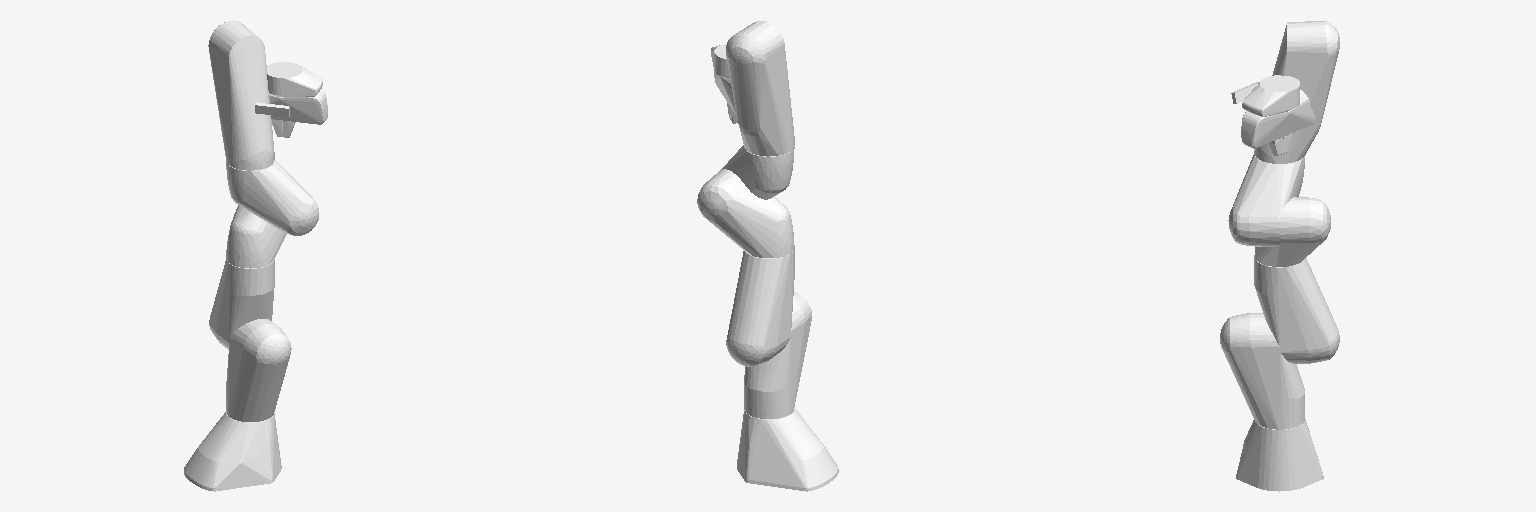
The robot description file, URDF, robot "panda":
<?xml version="1.0" ?>
<!-- =================================================================================== -->
<!-- |    This document was autogenerated by xacro from panda_arm_hand.urdf.xacro      | -->
<!-- |    EDITING THIS FILE BY HAND IS NOT RECOMMENDED                                 | -->
<!-- =================================================================================== -->
<robot name="panda" xmlns:xacro="http://www.ros.org/wiki/xacro">
  <link name="panda_link0">
  	<inertial>
      <origin rpy="0 0 0" xyz="0 0 0.05"/>
       <mass value="2.9"/>
       <inertia ixx="0.1" ixy="0" ixz="0" iyy="0.1" iyz="0" izz="0.1"/>
    </inertial>
    <visual>
      <geometry>
        <mesh filename="package://meshes/collision/link0.obj"/>
      </geometry>
      <material name="panda_white">
    		<color rgba="1. 1. 1. 1."/>
  		</material>
    </visual>
    <collision>
      <geometry>
        <mesh filename="package://meshes/collision/link0.obj"/>
      </geometry>
      <material name="panda_white"/>
    </collision>
  </link>
  <link name="panda_link1">
  	<inertial>
      <origin rpy="0 0 0" xyz="0 -0.04 -0.05"/>
       <mass value="2.7"/>
       <inertia ixx="0.1" ixy="0" ixz="0" iyy="0.1" iyz="0" izz="0.1"/>
    </inertial>
    <visual>
      <geometry>
        <mesh filename="package://meshes/visual/link1.obj"/>
      </geometry>
      <material name="panda_white"/>
    </visual>
    <collision>
      <geometry>
        <mesh filename="package://meshes/collision/link1.obj"/>
      </geometry>
      <material name="panda_white"/>
    </collision>
  </link>
  <joint name="panda_joint1" type="revolute">
    <safety_controller k_position="100.0" k_velocity="40.0" soft_lower_limit="-2.8973" soft_upper_limit="2.8973"/>
    <origin rpy="0 0 0" xyz="0 0 0.333"/>
    <parent link="panda_link0"/>
    <child link="panda_link1"/>
    <axis xyz="0 0 1"/>
    <limit effort="87" lower="-2.9671" upper="2.9671" velocity="2.1750"/>
  </joint>
  <link name="panda_link2">
  	<inertial>
      <origin rpy="0 0 0" xyz="0 -0.04 0.06"/>
       <mass value="2.73"/>
       <inertia ixx="0.1" ixy="0" ixz="0" iyy="0.1" iyz="0" izz="0.1"/>
    </inertial>
    <visual>
      <geometry>
        <mesh filename="package://meshes/visual/link2.obj"/>
      </geometry>
      <material name="panda_white"/>
    </visual>
    <collision>
      <geometry>
        <mesh filename="package://meshes/collision/link2.obj"/>
      </geometry>
      <material name="panda_white"/>
    </collision>
  </link>
  <joint name="panda_joint2" type="revolute">
    <safety_controller k_position="100.0" k_velocity="40.0" soft_lower_limit="-1.7628" soft_upper_limit="1.7628"/>
    <origin rpy="-1.57079632679 0 0" xyz="0 0 0"/>
    <parent link="panda_link1"/>
    <child link="panda_link2"/>
    <axis xyz="0 0 1"/>
    <limit effort="87" lower="-1.8326" upper="1.8326" velocity="2.1750"/>
  </joint>
  <link name="panda_link3">
	  <inertial>
      <origin rpy="0 0 0" xyz="0.01 0.01 -0.05"/>
       <mass value="2.04"/>
       <inertia ixx="0.1" ixy="0" ixz="0" iyy="0.1" iyz="0" izz="0.1"/>
    </inertial>
    <visual>
      <geometry>
        <mesh filename="package://meshes/visual/link3.obj"/>
      </geometry>
      <material name="panda_red">
    		<color rgba="1. 1. 1. 1."/>
  		</material>
    </visual>
    <collision>
      <geometry>
        <mesh filename="package://meshes/collision/link3.obj"/>
      </geometry>
    </collision>
  </link>
  <joint name="panda_joint3" type="revolute">
    <safety_controller k_position="100.0" k_velocity="40.0" soft_lower_limit="-2.8973" soft_upper_limit="2.8973"/>
    <origin rpy="1.57079632679 0 0" xyz="0 -0.316 0"/>
    <parent link="panda_link2"/>
    <child link="panda_link3"/>
    <axis xyz="0 0 1"/>
    <limit effort="87" lower="-2.9671" upper="2.9671" velocity="2.1750"/>
  </joint>
  <link name="panda_link4">
  	<inertial>
      <origin rpy="0 0 0" xyz="-0.03 0.03 0.02"/>
       <mass value="2.08"/>
       <inertia ixx="0.1" ixy="0" ixz="0" iyy="0.1" iyz="0" izz="0.1"/>
    </inertial>
    <visual>
      <geometry>
        <mesh filename="package://meshes/visual/link4.obj"/>
      </geometry>
      <material name="panda_white"/>
    </visual>
    <collision>
      <geometry>
        <mesh filename="package://meshes/collision/link4.obj"/>
      </geometry>
      <material name="panda_white"/>
    </collision>
  </link>
  <joint name="panda_joint4" type="revolute">
    <safety_controller k_position="100.0" k_velocity="40.0" soft_lower_limit="-3.0718" soft_upper_limit="-0.0698"/>
    <origin rpy="1.57079632679 0 0" xyz="0.0825 0 0"/>
    <parent link="panda_link3"/>
    <child link="panda_link4"/>
    <axis xyz="0 0 1"/>
    <limit effort="87" lower="-3.1416" upper="0.0" velocity="2.1750"/>
  </joint>
  <link name="panda_link5">
  	<inertial>
      <origin rpy="0 0 0" xyz="0 0.04 -0.12"/>
       <mass value="3"/>
       <inertia ixx="0.1" ixy="0" ixz="0" iyy="0.1" iyz="0" izz="0.1"/>
    </inertial>
    <visual>
      <geometry>
        <mesh filename="package://meshes/visual/link5.obj"/>
      </geometry>
      <material name="panda_white"/>
    </visual>
    <collision>
      <geometry>
        <mesh filename="package://meshes/collision/link5.obj"/>
      </geometry>
      <material name="panda_white"/>
    </collision>
  </link>
  <joint name="panda_joint5" type="revolute">
    <safety_controller k_position="100.0" k_velocity="40.0" soft_lower_limit="-2.8973" soft_upper_limit="2.8973"/>
    <origin rpy="-1.57079632679 0 0" xyz="-0.0825 0.384 0"/>
    <parent link="panda_link4"/>
    <child link="panda_link5"/>
    <axis xyz="0 0 1"/>
    <limit effort="12" lower="-2.9671" upper="2.9671" velocity="2.6100"/>
  </joint>
  <link name="panda_link6">
  	<inertial>
      <origin rpy="0 0 0" xyz="0.04 0 0"/>
       <mass value="1.3"/>
       <inertia ixx="0.1" ixy="0" ixz="0" iyy="0.1" iyz="0" izz="0.1"/>
    </inertial>
    <visual>
      <geometry>
        <mesh filename="package://meshes/visual/link6.obj"/>
      </geometry>
      <material name="panda_white"/>
    </visual>
    <collision>
      <geometry>
        <mesh filename="package://meshes/collision/link6.obj"/>
      </geometry>
      <material name="panda_white"/>
    </collision>
  </link>
  <joint name="panda_joint6" type="revolute">
    <safety_controller k_position="100.0" k_velocity="40.0" soft_lower_limit="-0.0175" soft_upper_limit="3.7525"/>
    <origin rpy="1.57079632679 0 0" xyz="0 0 0"/>
    <parent link="panda_link5"/>
    <child link="panda_link6"/>
    <axis xyz="0 0 1"/>
    <limit effort="12" lower="-0.0873" upper="3.8223" velocity="2.6100"/>
  </joint>
  <link name="panda_link7">
  	<inertial>
      <origin rpy="0 0 0" xyz="0 0 0.08"/>
       <mass value=".2"/>
       <inertia ixx="0.1" ixy="0" ixz="0" iyy="0.1" iyz="0" izz="0.1"/>
    </inertial>
    <visual>
      <geometry>
        <mesh filename="package://meshes/collision/link7.obj"/>
      </geometry>
      <material name="panda_white"/>
    </visual>
    <collision>
      <geometry>
        <mesh filename="package://meshes/collision/link7.obj"/>
      </geometry>
      <material name="panda_white"/>
    </collision>
  </link>
  <joint name="panda_joint7" type="revolute">
    <safety_controller k_position="100.0" k_velocity="40.0" soft_lower_limit="-2.8973" soft_upper_limit="2.8973"/>
    <origin rpy="1.57079632679 0 0" xyz="0.088 0 0"/>
    <parent link="panda_link6"/>
    <child link="panda_link7"/>
    <axis xyz="0 0 1"/>
    <limit effort="12" lower="-2.9671" upper="2.9671" velocity="2.6100"/>
  </joint>
  <link name="panda_link8">
  	 <inertial>
      <origin rpy="0 0 0" xyz="0 0 0"/>
       <mass value="0.0"/>
       <inertia ixx="0.1" ixy="0" ixz="0" iyy="0.1" iyz="0" izz="0.1"/>
    </inertial>
  </link>
  <joint name="panda_joint8" type="fixed">
    <origin rpy="0 0 0" xyz="0 0 0.107"/>
    <parent link="panda_link7"/>
    <child link="panda_link8"/>
    <axis xyz="0 0 0"/>
  </joint>
  <joint name="panda_hand_joint" type="fixed">
    <parent link="panda_link8"/>
    <child link="panda_hand"/>
    <origin rpy="0 0 -0.785398163397" xyz="0 0 0"/>
  </joint>
  <link name="panda_hand">
  	<inertial>
      <origin rpy="0 0 0" xyz="0 0 0.04"/>
       <mass value=".81"/>
       <inertia ixx="0.1" ixy="0" ixz="0" iyy="0.1" iyz="0" izz="0.1"/>
    </inertial>
    <visual>
      <geometry>
        <mesh filename="package://meshes/visual/hand.obj"/>
      </geometry>
      <material name="panda_white"/>
    </visual>
    <collision>
      <geometry>
        <mesh filename="package://meshes/collision/hand.obj"/>
      </geometry>
      <material name="panda_white"/>
    </collision>
  </link>
  <link name="panda_leftfinger">
       <contact>
      <friction_anchor/>
      <stiffness value="30000.0"/>
      <damping value="1000.0"/>
      <spinning_friction value="0.1"/>
      <lateral_friction value="1.0"/>
    </contact>
  	<inertial>
      <origin rpy="0 0 0" xyz="0 0.01 0.02"/>
       <mass value="0.1"/>
       <inertia ixx="0.1" ixy="0" ixz="0" iyy="0.1" iyz="0" izz="0.1"/>
    </inertial>
    <visual>
      <geometry>
        <mesh filename="package://meshes/visual/finger.obj"/>
      </geometry>
      <material name="panda_white"/>
    </visual>
    <collision>
      <geometry>
        <mesh filename="package://meshes/collision/finger.obj"/>
      </geometry>
      <material name="panda_white"/>
    </collision>
  </link>
  <link name="panda_rightfinger">
        <contact>
      <friction_anchor/>
      <stiffness value="30000.0"/>
      <damping value="1000.0"/>
      <spinning_friction value="0.1"/>
      <lateral_friction value="1.0"/>
    </contact>

  	<inertial>
      <origin rpy="0 0 0" xyz="0 -0.01 0.02"/>
       <mass value="0.1"/>
       <inertia ixx="0.1" ixy="0" ixz="0" iyy="0.1" iyz="0" izz="0.1"/>
    </inertial>
    <visual>
      <origin rpy="0 0 3.14159265359" xyz="0 0 0"/>
      <geometry>
        <mesh filename="package://meshes/visual/finger.obj"/>
      </geometry>
      <material name="panda_white"/>
    </visual>
    <collision>
      <origin rpy="0 0 3.14159265359" xyz="0 0 0"/>
      <geometry>
        <mesh filename="package://meshes/collision/finger.obj"/>
      </geometry>
      <material name="panda_white"/>
    </collision>
  </link>
  <joint name="panda_finger_joint1" type="prismatic">
    <parent link="panda_hand"/>
    <child link="panda_leftfinger"/>
    <origin rpy="0 0 0" xyz="0 0 0.0584"/>
    <axis xyz="0 1 0"/>
    <limit effort="20" lower="0.0" upper="0.04" velocity="0.2"/>
  </joint>
  <joint name="panda_finger_joint2" type="prismatic">
    <parent link="panda_hand"/>
    <child link="panda_rightfinger"/>
    <origin rpy="0 0 0" xyz="0 0 0.0584"/>
    <axis xyz="0 -1 0"/>
    <limit effort="20" lower="0.0" upper="0.04" velocity="0.2"/>
    <mimic joint="panda_finger_joint1"/>
  </joint>
   <link name="panda_grasptarget">
 <inertial>
      <origin rpy="0 0 0" xyz="0 0 0"/>
       <mass value="0.0"/>
       <inertia ixx="0.1" ixy="0" ixz="0" iyy="0.1" iyz="0" izz="0.1"/>
    </inertial>
   </link>
   <joint name="panda_grasptarget_hand" type="fixed">
    <parent link="panda_hand"/>
    <child link="panda_grasptarget"/>
    <origin rpy="0 0 0" xyz="0 0 0.105"/>
  </joint>

<!-- attach camera object to gripper-->

    <joint name="camera_joint" type='fixed'>
	  <parent link="panda_hand"/>
	  <child link="gripper_cam"/>
	  <origin xyz="-0.1 0 0" rpy="1.3  0 -1.57"/>
    </joint>

	 <link name="gripper_cam">
		<inertial>
			<origin rpy="0 0 0" xyz="0 0.0 0.0"/>
			<mass value="0.2"/>
			<inertia ixx="0.1" ixy="0" ixz="0" iyy="0.1" iyz="0" izz="0.1"/>
		</inertial>

		<visual>
		  <origin rpy="0 0 0" xyz="0 0 0"/>
		  <geometry>
			<box size=".08 .025 0.01"/>
		  </geometry>
		  <material name="panda_white"/>
		</visual>

	 </link>

	<joint name="tcp_joint" type='fixed'>
	  <parent link="panda_hand"/>
	  <child link="tcp"/>
	  <origin xyz="0 0 0.1" rpy="0 0 3.14"/>
    </joint>

	<link name="tcp">
		<inertial>
			<origin rpy="0 0 0" xyz="0 0.0 0.0"/>
			<mass value="0.00001"/>
			<inertia ixx="0.1" ixy="0" ixz="0" iyy="0.1" iyz="0" izz="0.1"/>
		</inertial>

	 </link>

</robot>

--- Facts derived from the render (not from the file) ---
3 views of the same robot in one strip: view 1: azimuth 30°, elevation 25°; view 2: azimuth 150°, elevation 25°; view 3: azimuth 270°, elevation 25° (orthographic).
Robot: panda — 15 links, 14 joints (7 revolute, 2 prismatic, 5 fixed); root link panda_link0; default pose: every joint at zero.
Links seen in each view (by area): view 1: panda_link5, panda_link0, panda_link1, panda_link4, panda_link2, panda_link3, panda_link7, panda_hand; view 2: panda_link5, panda_link2, panda_link0, panda_link3, panda_link1, panda_link4; view 3: panda_link1, panda_link2, panda_link5, panda_link0, panda_link4, panda_link3, panda_hand, panda_link7.
Link boxes in pixels (left/top/right/bottom): panda_link5: left=208, top=20, right=274, bottom=170; panda_link0: left=184, top=412, right=281, bottom=491; panda_link1: left=226, top=319, right=291, bottom=421; panda_link4: left=226, top=160, right=318, bottom=235; panda_link2: left=209, top=260, right=274, bottom=349; panda_link3: left=226, top=205, right=286, bottom=268; panda_link7: left=267, top=62, right=322, bottom=96; panda_hand: left=269, top=90, right=327, bottom=124; panda_link5: left=726, top=21, right=794, bottom=156; panda_link2: left=726, top=248, right=794, bottom=366; panda_link0: left=737, top=407, right=838, bottom=491; panda_link3: left=697, top=169, right=794, bottom=257; panda_link1: left=744, top=292, right=811, bottom=418; panda_link4: left=721, top=145, right=794, bottom=199; panda_link1: left=1220, top=313, right=1304, bottom=429; panda_link2: left=1254, top=258, right=1339, bottom=363; panda_link5: left=1254, top=20, right=1339, bottom=163; panda_link0: left=1236, top=419, right=1323, bottom=491; panda_link4: left=1228, top=154, right=1304, bottom=246; panda_link3: left=1254, top=197, right=1330, bottom=266; panda_hand: left=1241, top=90, right=1315, bottom=148; panda_link7: left=1242, top=75, right=1299, bottom=116.
Size in the robot's own frame: 0.3253 by 0.2593 by 1.09 metres.
10 mesh visuals loaded from 10 distinct referenced files (9 OBJ); not drawn: 1 (reference not matched to a file when rendering).
